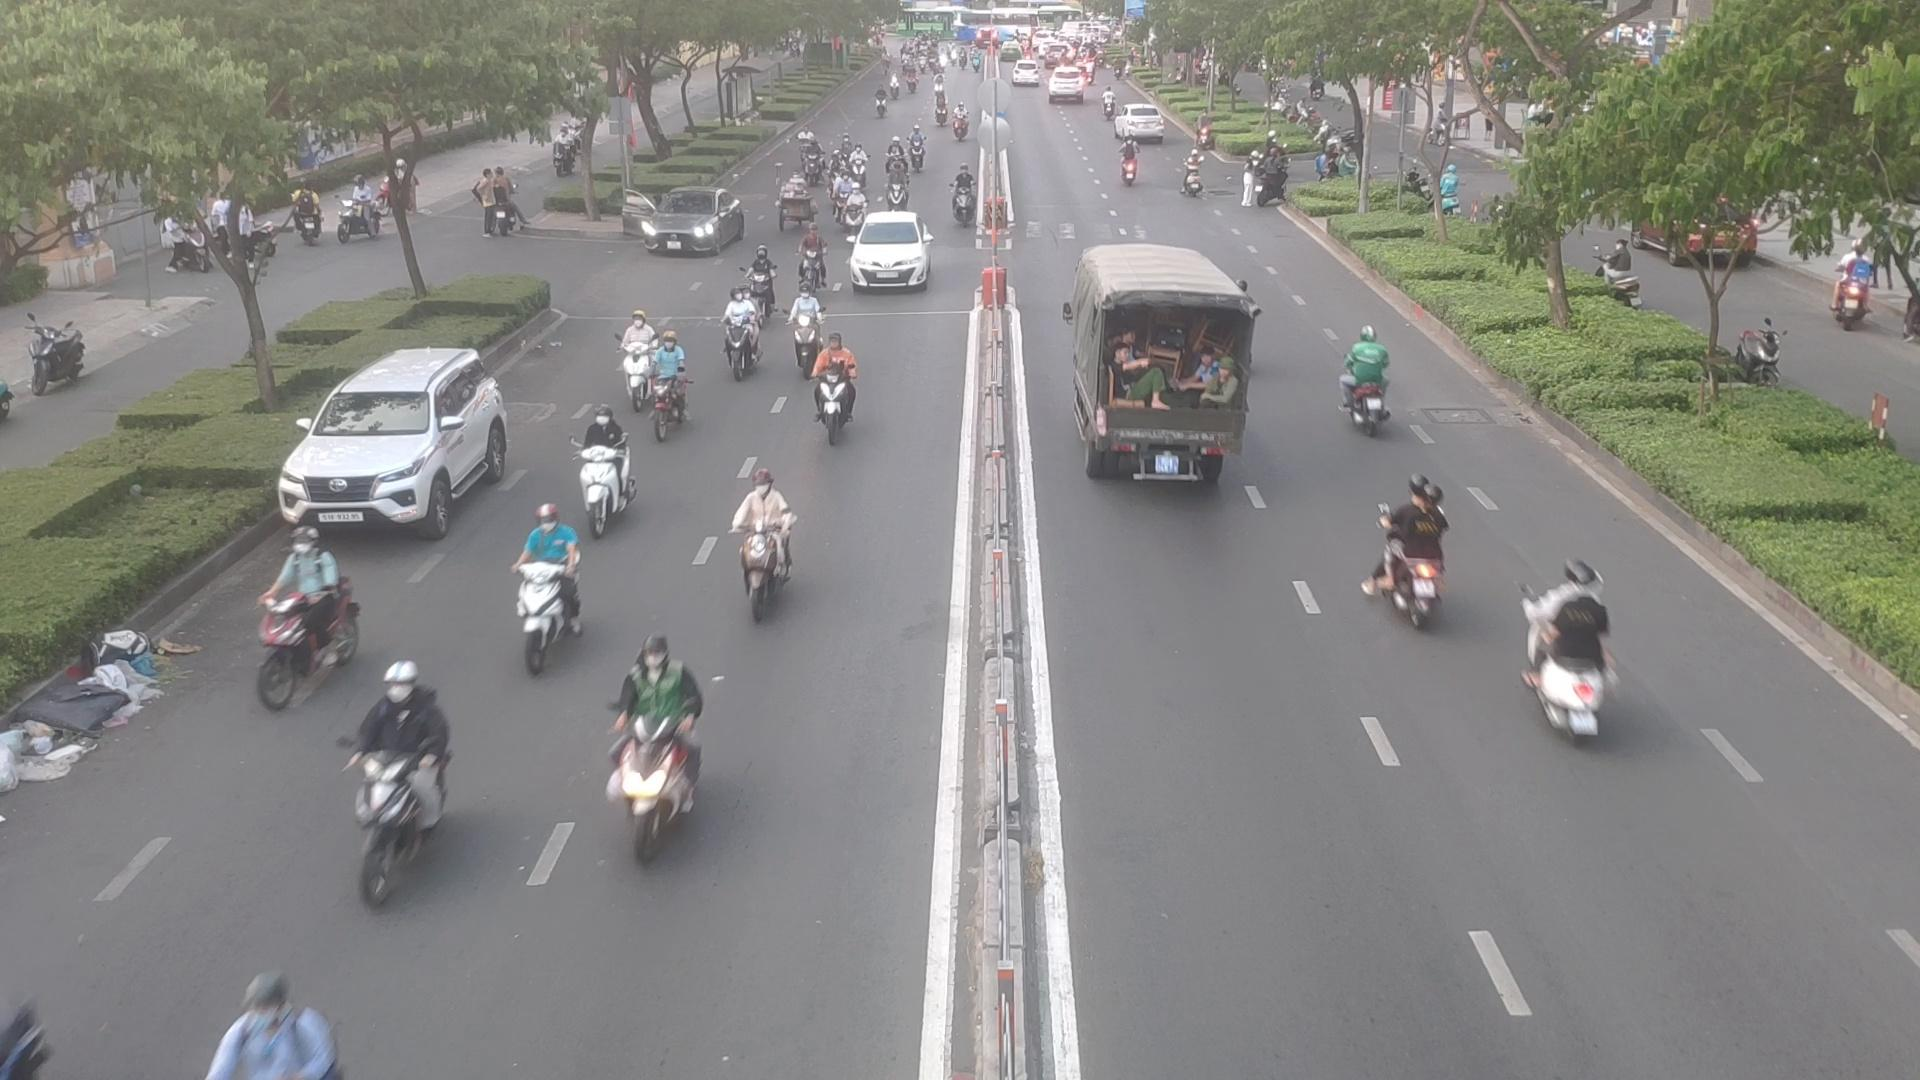car: (1051, 248, 1244, 483), (280, 345, 516, 535), (603, 173, 745, 273), (844, 215, 928, 291)
motorbike: (247, 524, 367, 720), (353, 661, 447, 890), (1524, 553, 1619, 752), (611, 638, 694, 847), (1364, 483, 1445, 647), (493, 493, 578, 638), (1321, 323, 1411, 451), (733, 468, 814, 608), (574, 398, 625, 538), (620, 315, 658, 411), (713, 285, 756, 371), (651, 334, 688, 417), (785, 287, 823, 361), (822, 340, 847, 436), (793, 233, 829, 295), (742, 248, 774, 316), (945, 167, 977, 232), (882, 164, 914, 222), (843, 183, 866, 243), (1120, 138, 1143, 187), (800, 140, 825, 185), (905, 113, 924, 167), (1182, 146, 1203, 194), (833, 171, 851, 222), (844, 138, 862, 175), (886, 138, 905, 170)
